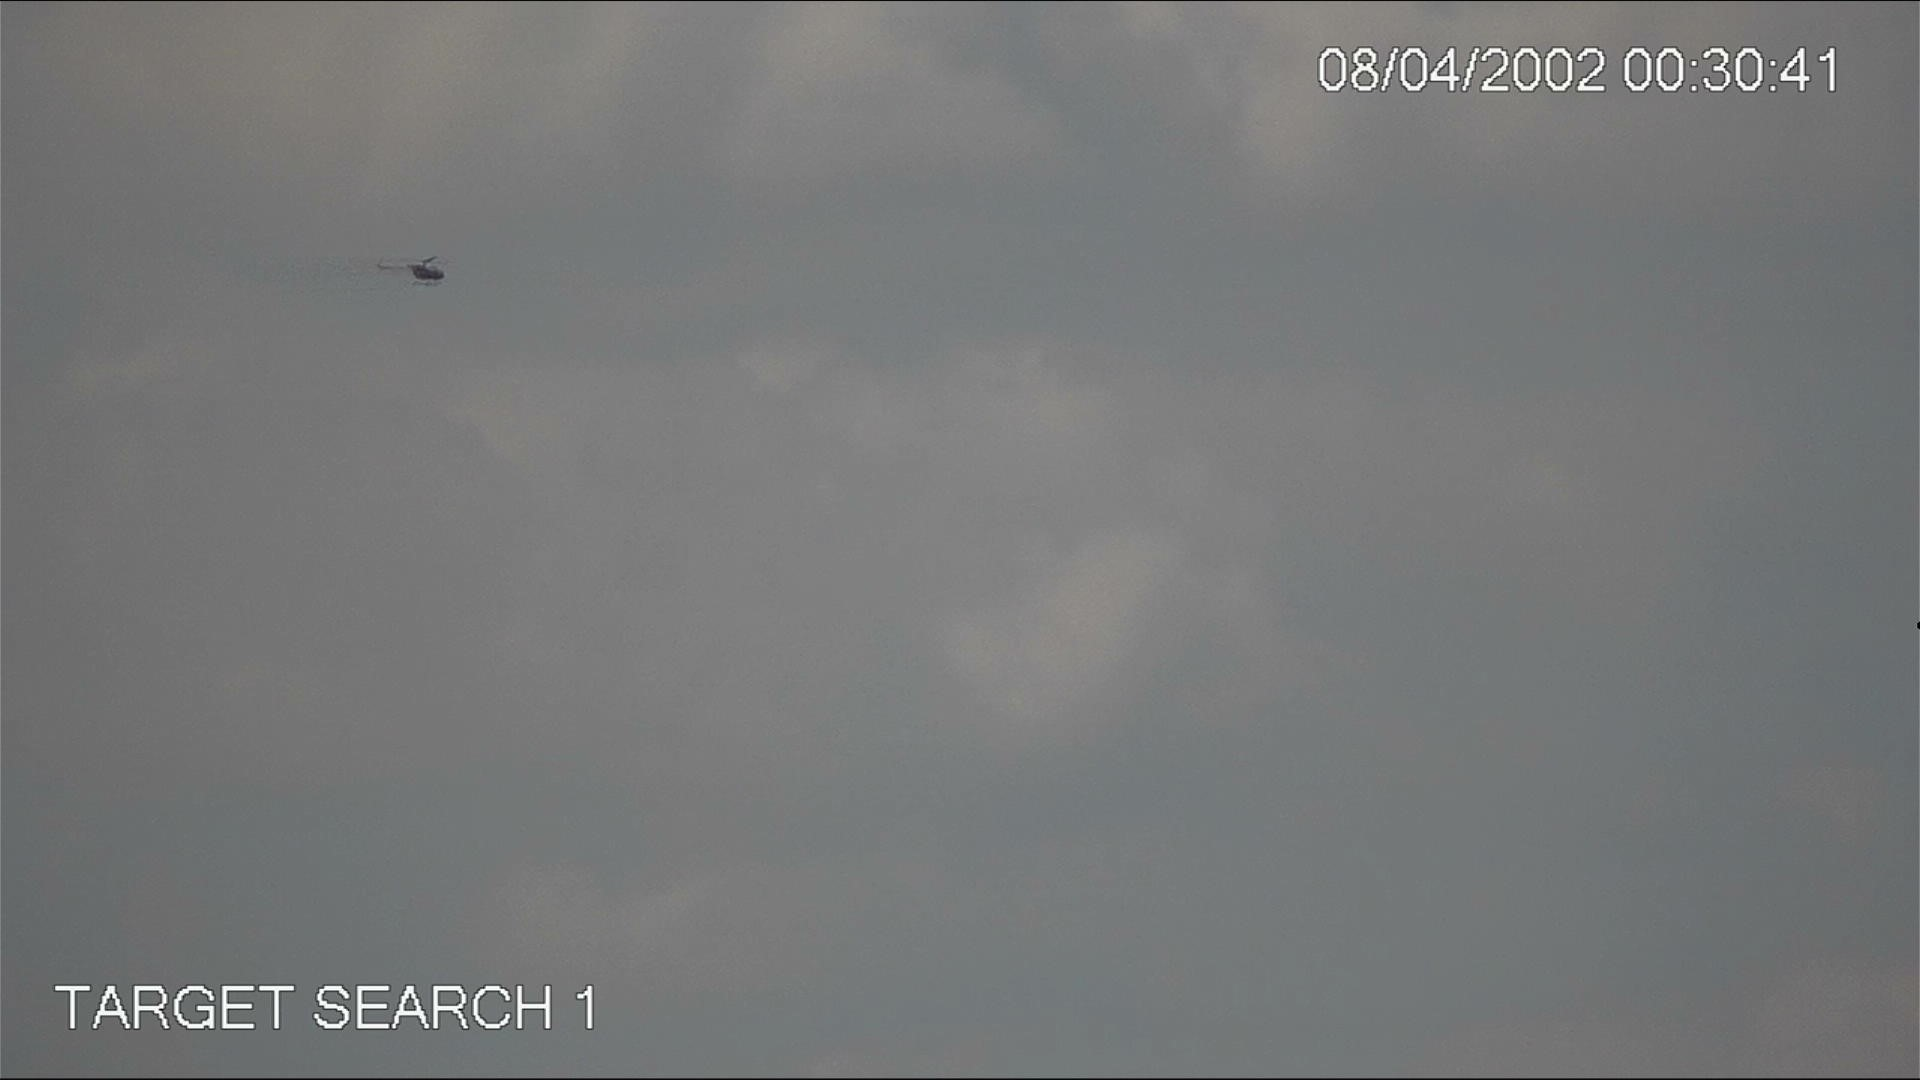SU_30: (375, 251, 454, 291)
